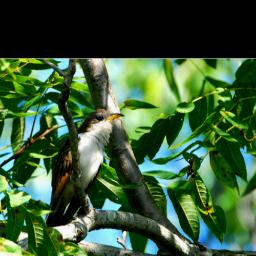Cuckoo: (46, 108, 125, 227)
